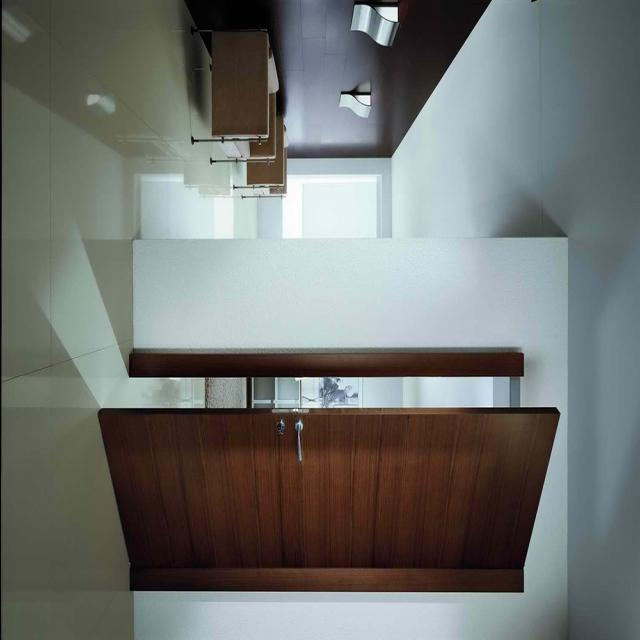open: (112, 347, 530, 591)
